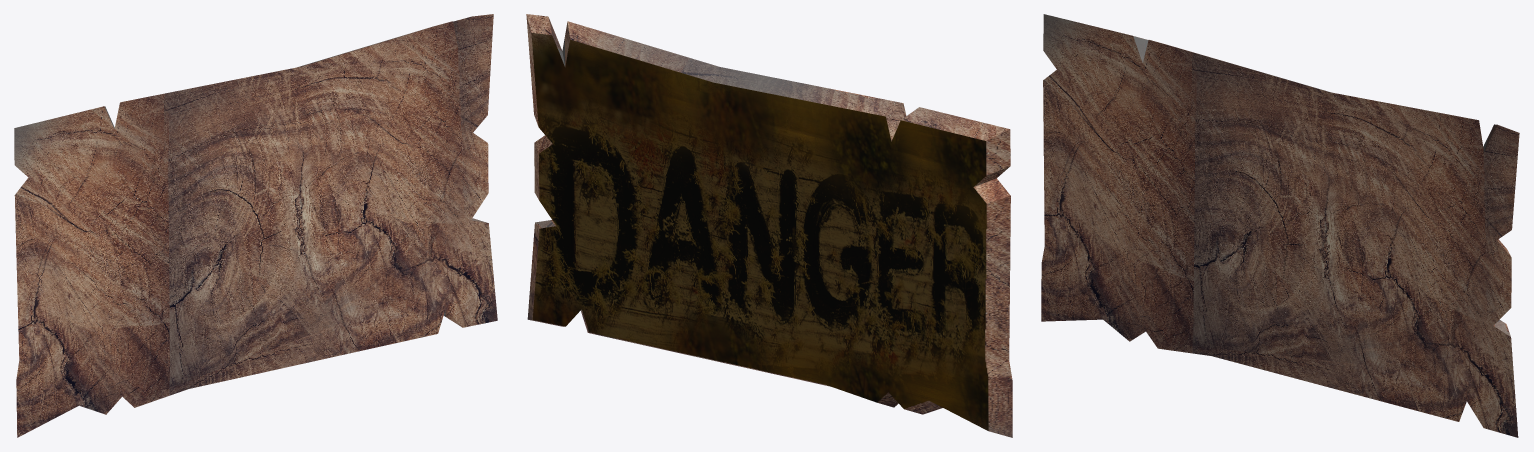
Rendered from dangerSign.glb.
3 views of the same model, side by side, from view 1: azimuth 30°, elevation 25°; view 2: azimuth 150°, elevation 25°; view 3: azimuth 330°, elevation 25° (orthographic).
Parts seen in each view (by area): view 1: Plane; view 2: Plane; view 3: Plane.
Part boxes in pixels (bbox=[...]): Plane: bbox=[14, 14, 497, 437]; Plane: bbox=[526, 14, 1012, 437]; Plane: bbox=[1041, 14, 1519, 437].
Bounding box in the file's own units: 1.1 × 0.6742 × 0.0451.
1 material, 1 textured.
